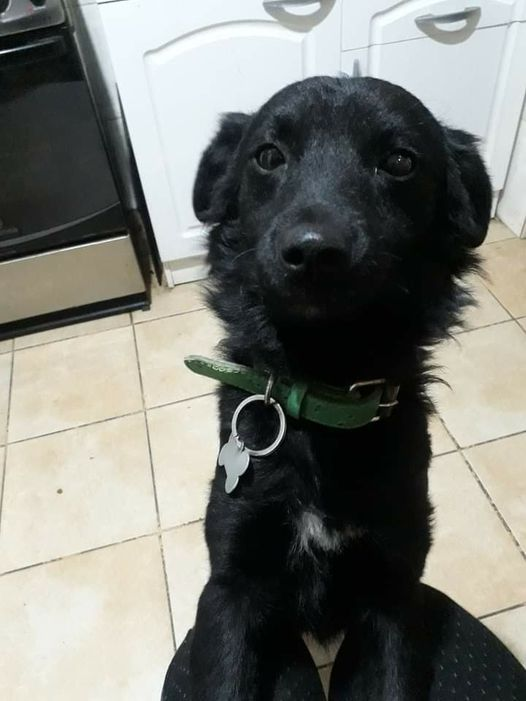dog: (130, 55, 482, 701)
